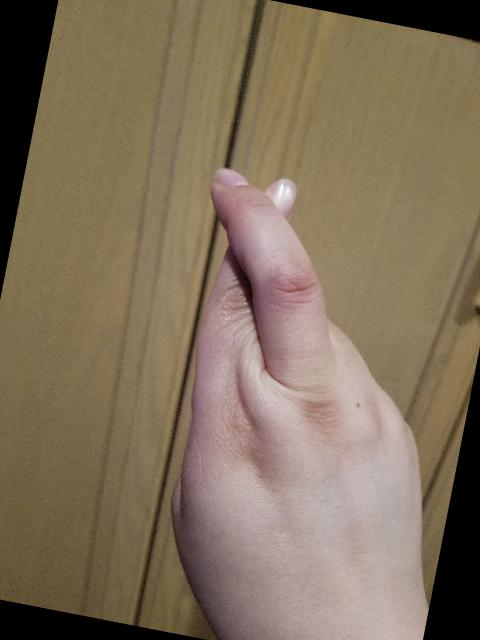R: (118, 157, 480, 640)
